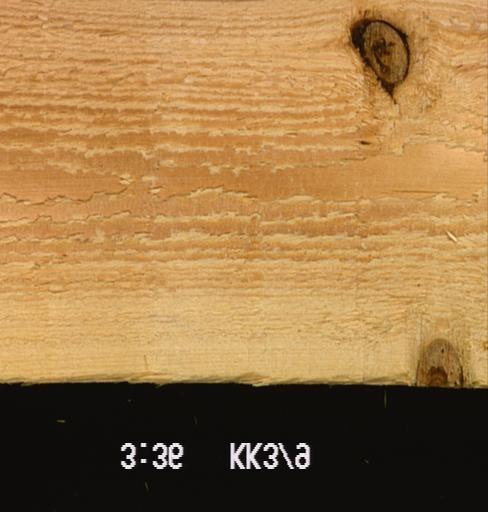edge_knot: (412, 337, 466, 386)
wave: (0, 371, 408, 387)
